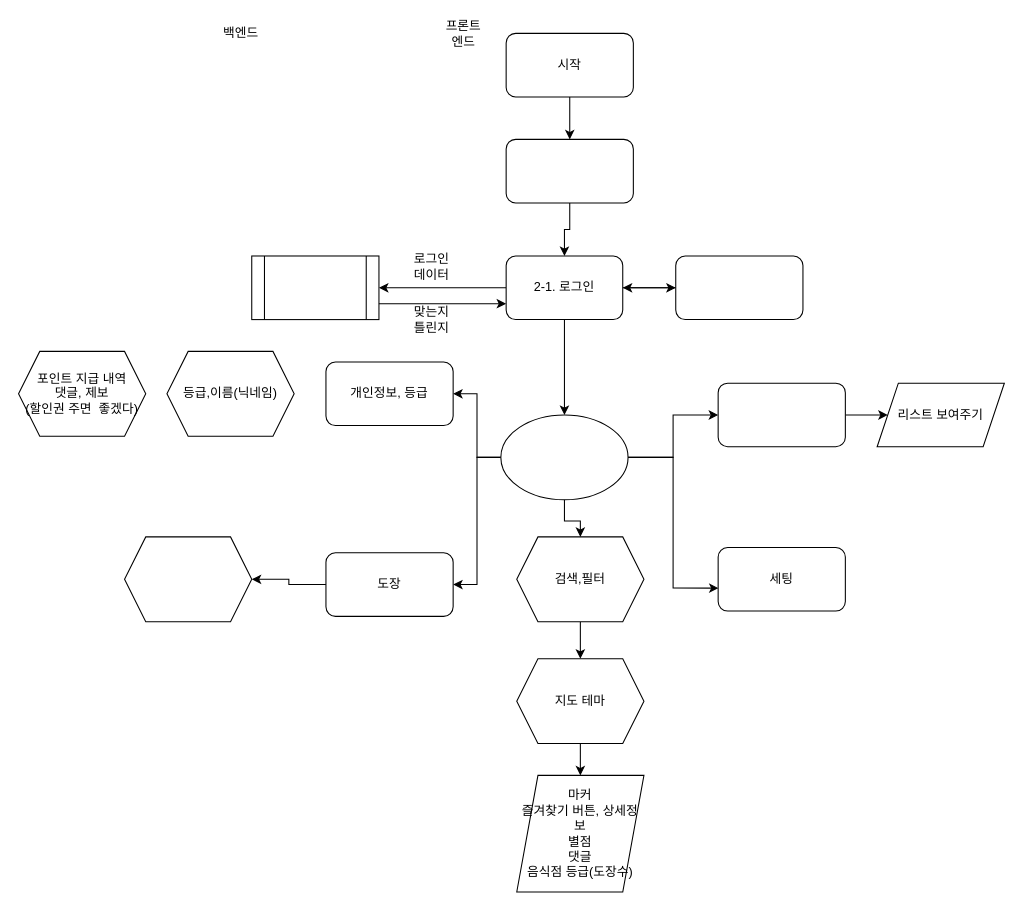
This 1023x911 diagram has some shape labels left out. Here are the shapes that lost their labels. From the top down, the centre of each, then its label:
[569,170]: 1. 스플레쉬
[739,287]: 2-2.회원가입
[781,414]: 즐겨찾기
[564,457]: 3. 메인 홈
[187,579]: 지도에 도장꽝 식당 표시
